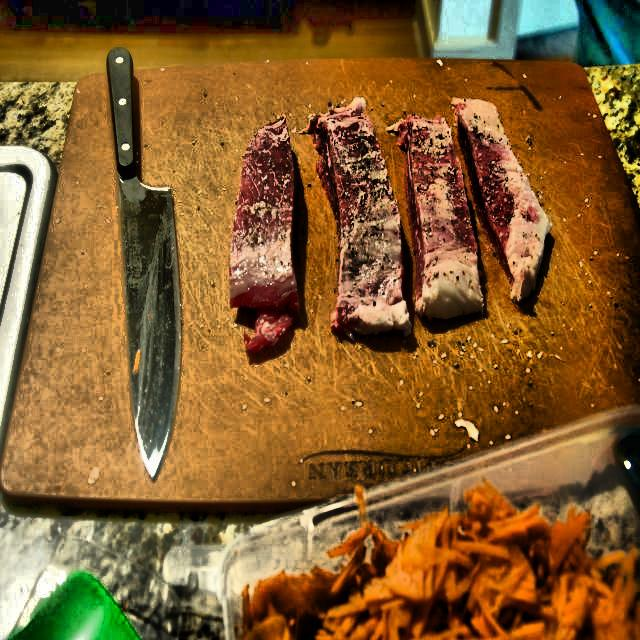knife: (102, 43, 198, 481)
